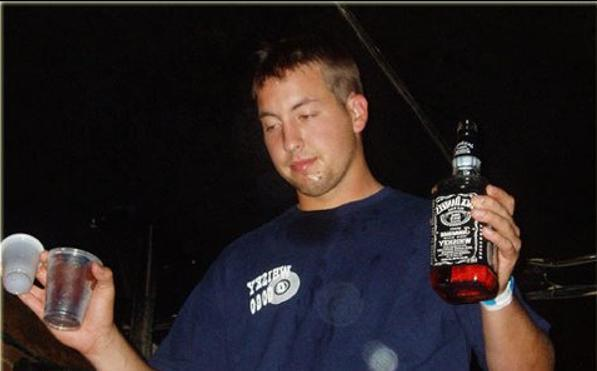Drunk: (261, 77, 353, 186)
